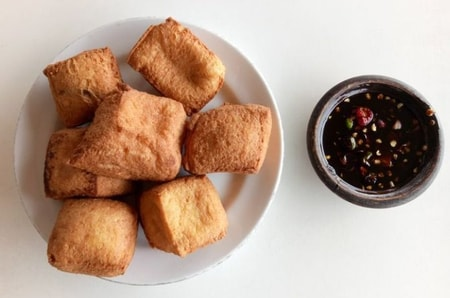Tahu: (144, 171, 234, 258), (81, 100, 191, 171), (144, 17, 228, 105), (181, 107, 271, 177), (49, 200, 144, 264), (50, 49, 121, 108)
